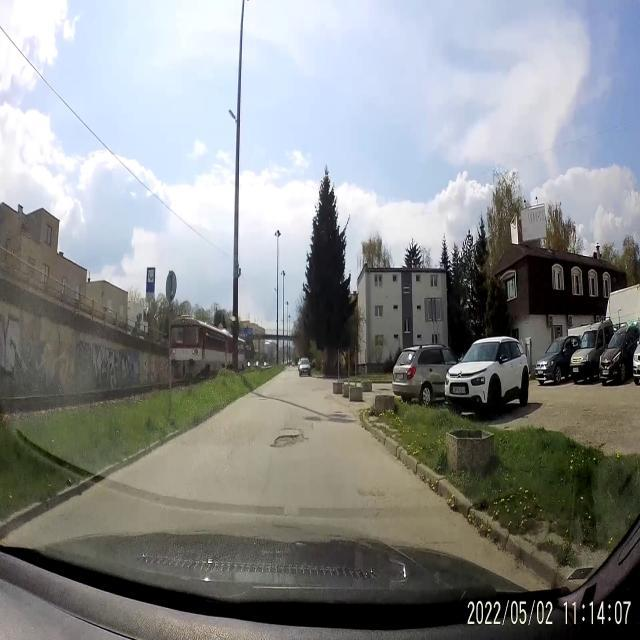Pothole: (269, 428, 309, 450)
